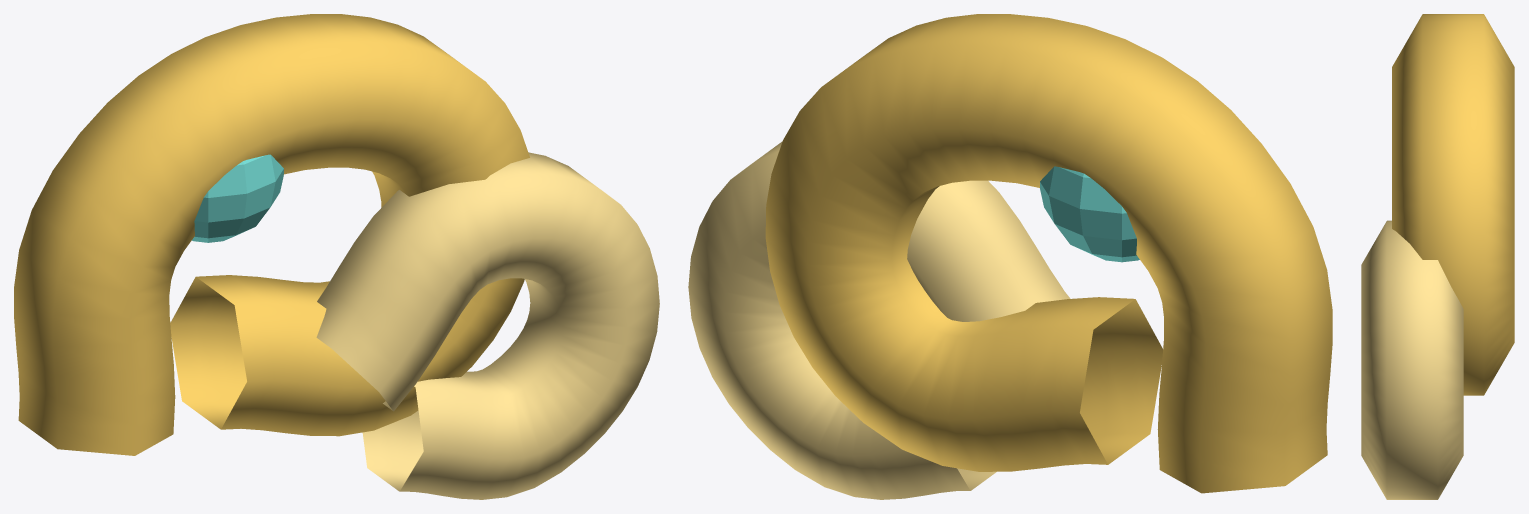
Rendered from noodle_bite.glb.
3 views of the same model, side by side, from view 1: azimuth 30°, elevation 25°; view 2: azimuth 150°, elevation 25°; view 3: azimuth 270°, elevation 25° (orthographic). The views are drawn at different scales.
Visible parts, largest first — view 1: Noodle bite curl A, Noodle bite curl B, Bite scallion; view 2: Noodle bite curl A, Noodle bite curl B, Bite scallion; view 3: Noodle bite curl A, Noodle bite curl B.
Part boxes in pixels (box(x1,y1,x2,y2)): Noodle bite curl A: box(14, 14, 529, 455); Noodle bite curl B: box(316, 152, 659, 499); Bite scallion: box(192, 154, 283, 242); Noodle bite curl A: box(765, 14, 1332, 493); Noodle bite curl B: box(688, 141, 1070, 499); Bite scallion: box(1040, 166, 1139, 262); Noodle bite curl A: box(1392, 14, 1514, 395); Noodle bite curl B: box(1361, 220, 1463, 499).
Bounding box in the file's own units: 0.052 × 0.0406 × 0.015.
